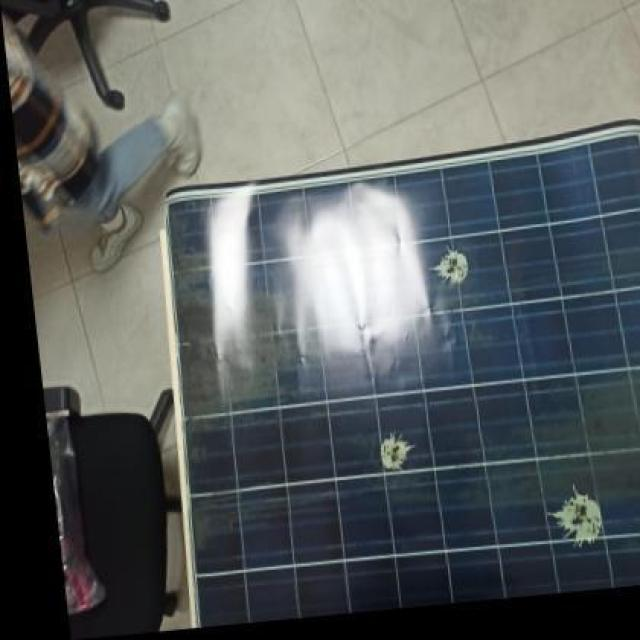soiled: (163, 107, 640, 631)
